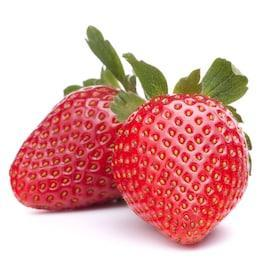Fresa: (109, 87, 256, 249), (8, 80, 156, 218)
